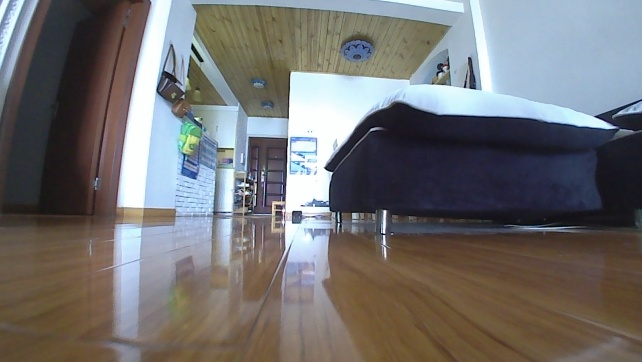door_anno: (33, 0, 152, 218), (246, 134, 289, 214)
sofa1: (321, 80, 641, 237)
